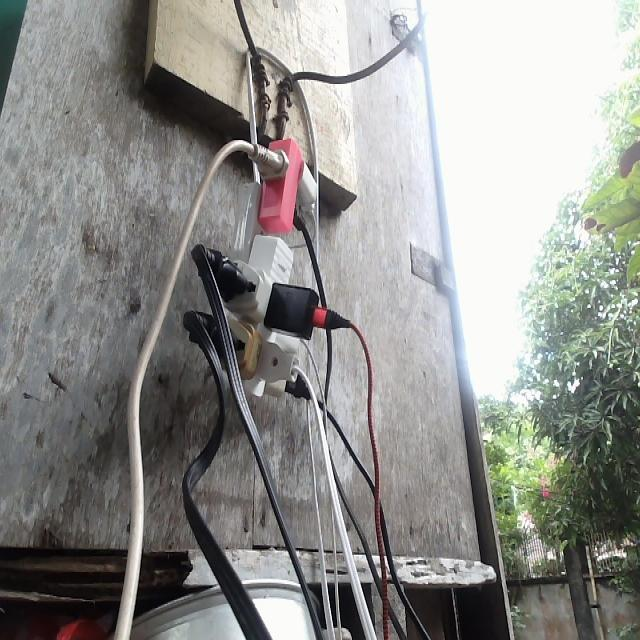-: (196, 135, 340, 412)
